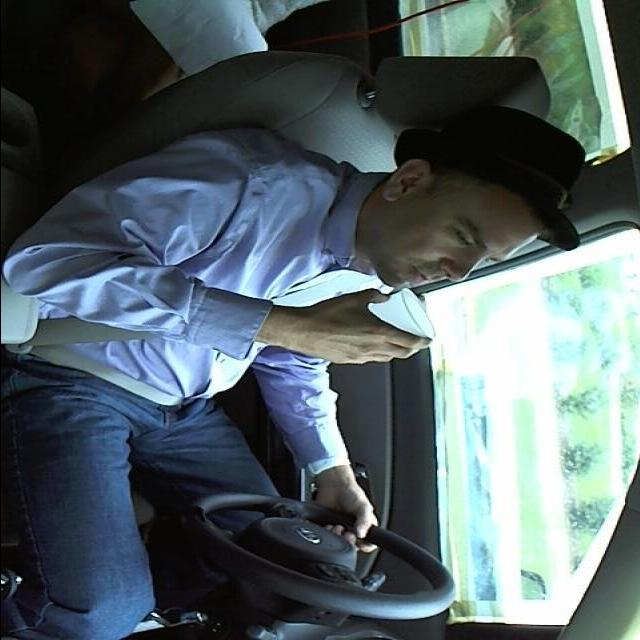drinking: (322, 286, 438, 348)
